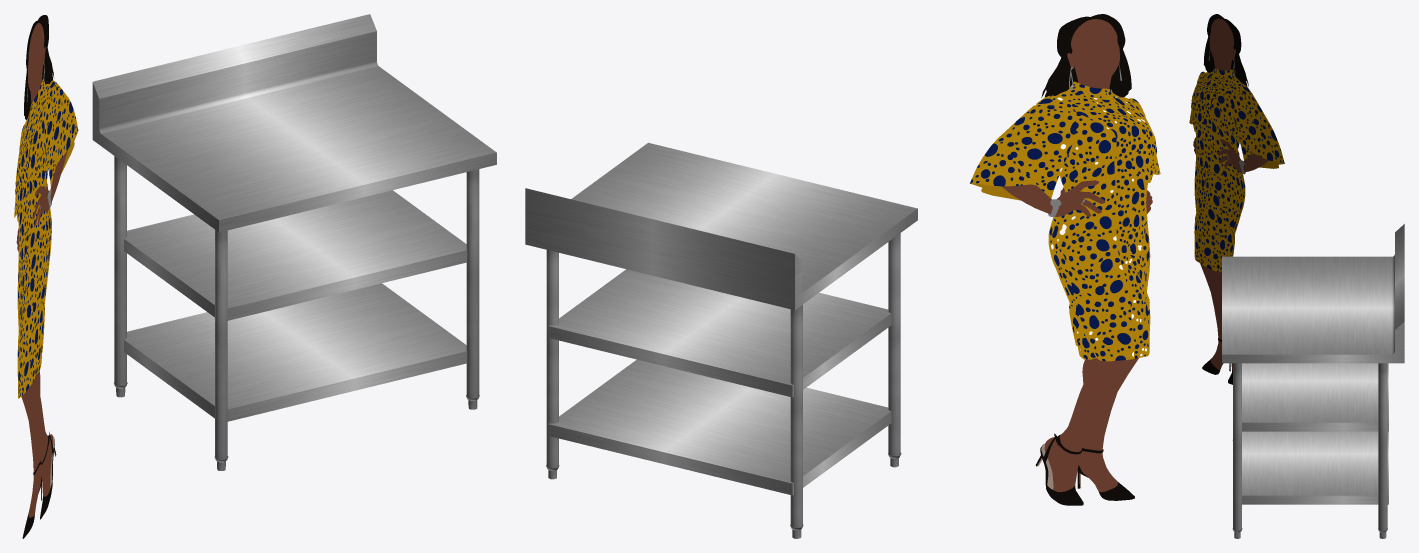
The picture shows the model from 3 angles, left to right: view 1: azimuth 30°, elevation 25°; view 2: azimuth 150°, elevation 25°; view 3: azimuth 270°, elevation 25°; orthographic projection. The views are drawn at different scales.
Visible parts, largest first — view 1: _G-Object (Loose Mesh), C-Sumele, _C-Component#6 (Loose Mesh).002, _C-Component#6 (Loose Mesh), _C-Component#6 (Loose Mesh).001; view 2: _G-Object (Loose Mesh), C-Sumele, _C-Component#6 (Loose Mesh).001, _C-Component#6 (Loose Mesh), _C-Component#6 (Loose Mesh).003; view 3: _G-Object (Loose Mesh), C-Sumele, _C-Component#6 (Loose Mesh).003, _C-Component#6 (Loose Mesh).002.
Part boxes in pixels (x1,y1,x2,y2): _G-Object (Loose Mesh): [92, 14, 496, 421]; C-Sumele: [14, 15, 78, 538]; _C-Component#6 (Loose Mesh).002: [466, 169, 479, 398]; _C-Component#6 (Loose Mesh): [215, 230, 227, 459]; _C-Component#6 (Loose Mesh).001: [114, 156, 126, 385]; _G-Object (Loose Mesh): [525, 142, 917, 495]; C-Sumele: [970, 14, 1160, 505]; _C-Component#6 (Loose Mesh).001: [790, 305, 802, 527]; _C-Component#6 (Loose Mesh): [888, 233, 900, 456]; _C-Component#6 (Loose Mesh).003: [546, 250, 558, 468]; _G-Object (Loose Mesh): [1222, 224, 1404, 504]; C-Sumele: [1189, 14, 1284, 384]; _C-Component#6 (Loose Mesh).003: [1378, 363, 1387, 530]; _C-Component#6 (Loose Mesh).002: [1233, 363, 1241, 530].
Size of the model in its own units: 1.73 by 1.65 by 0.8838.
Materials: 9 (2 with a texture image).
